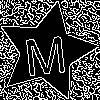M: (21, 26, 68, 77)
